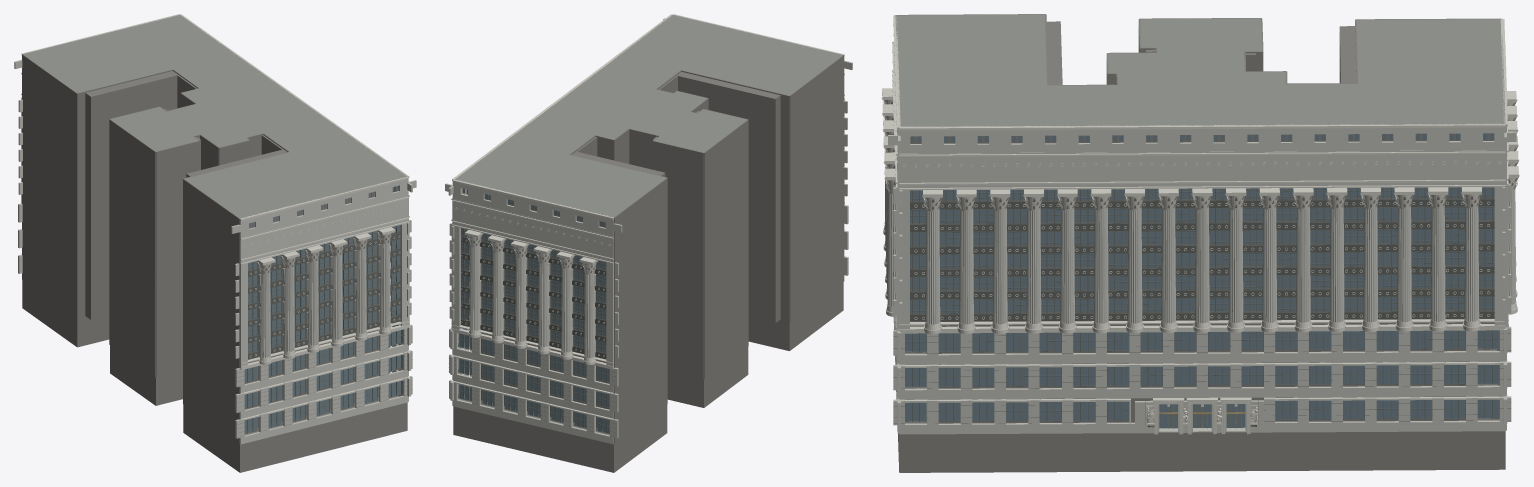
File: county_building.glb
3 renders of one model, left to right at view 1: azimuth 30°, elevation 25°; view 2: azimuth 150°, elevation 25°; view 3: azimuth 270°, elevation 25°, orthographic. The views are drawn at different scales.
Parts seen in each view (by area): view 1: Opaque recessed backing and unsurveyed courts, Roof slab and coping, Woodbury grey granite, Dark terra cotta spandrels and sashes, Separate recessed blue grey sash panes, Pale granite and terra cotta relief; view 2: Opaque recessed backing and unsurveyed courts, Roof slab and coping, Woodbury grey granite, Dark terra cotta spandrels and sashes, Separate recessed blue grey sash panes, Pale granite and terra cotta relief; view 3: Woodbury grey granite, Roof slab and coping, Separate recessed blue grey sash panes, Dark terra cotta spandrels and sashes, Opaque recessed backing and unsurveyed courts, Pale granite and terra cotta relief.
Boxes of the visible parts, bbox=[...] form: Opaque recessed backing and unsurveyed courts: bbox=[22, 54, 407, 472]; Roof slab and coping: bbox=[23, 14, 407, 218]; Woodbury grey granite: bbox=[14, 60, 416, 444]; Dark terra cotta spandrels and sashes: bbox=[237, 226, 412, 437]; Separate recessed blue grey sash panes: bbox=[244, 186, 401, 433]; Pale granite and terra cotta relief: bbox=[21, 14, 409, 431]; Opaque recessed backing and unsurveyed courts: bbox=[453, 55, 844, 472]; Roof slab and coping: bbox=[455, 14, 842, 217]; Woodbury grey granite: bbox=[445, 18, 852, 444]; Dark terra cotta spandrels and sashes: bbox=[449, 229, 616, 436]; Separate recessed blue grey sash panes: bbox=[459, 189, 609, 433]; Pale granite and terra cotta relief: bbox=[451, 14, 844, 432]; Woodbury grey granite: bbox=[884, 41, 1516, 434]; Roof slab and coping: bbox=[895, 14, 1505, 127]; Separate recessed blue grey sash panes: bbox=[905, 133, 1499, 428]; Dark terra cotta spandrels and sashes: bbox=[893, 187, 1510, 427]; Opaque recessed backing and unsurveyed courts: bbox=[895, 14, 1505, 472]; Pale granite and terra cotta relief: bbox=[881, 15, 1519, 434].
Bounding box in the file's own units: 54.23 × 70.48 × 118.
